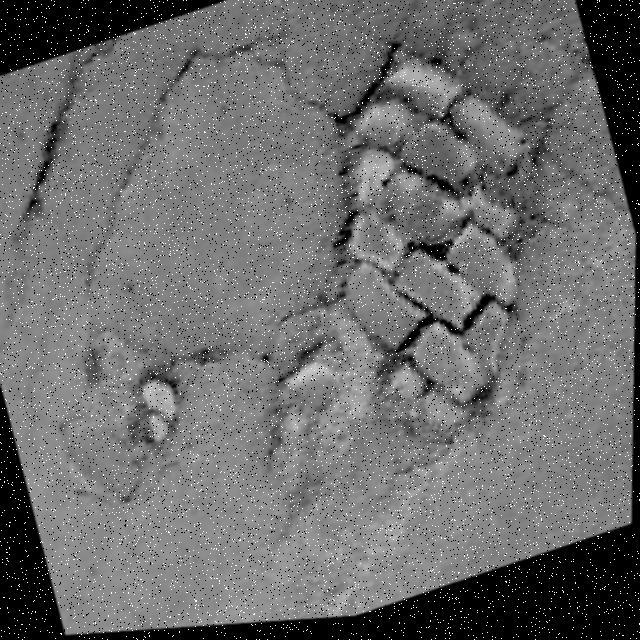pothole: (266, 17, 604, 470)
